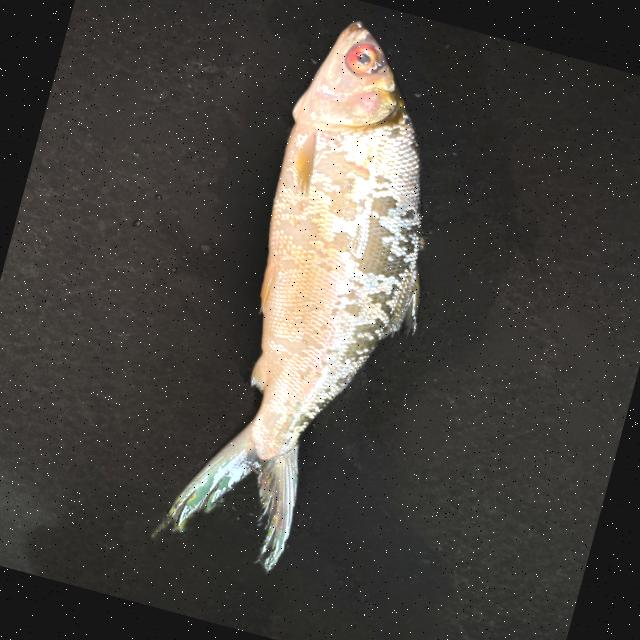540 g: (158, 4, 489, 591)
